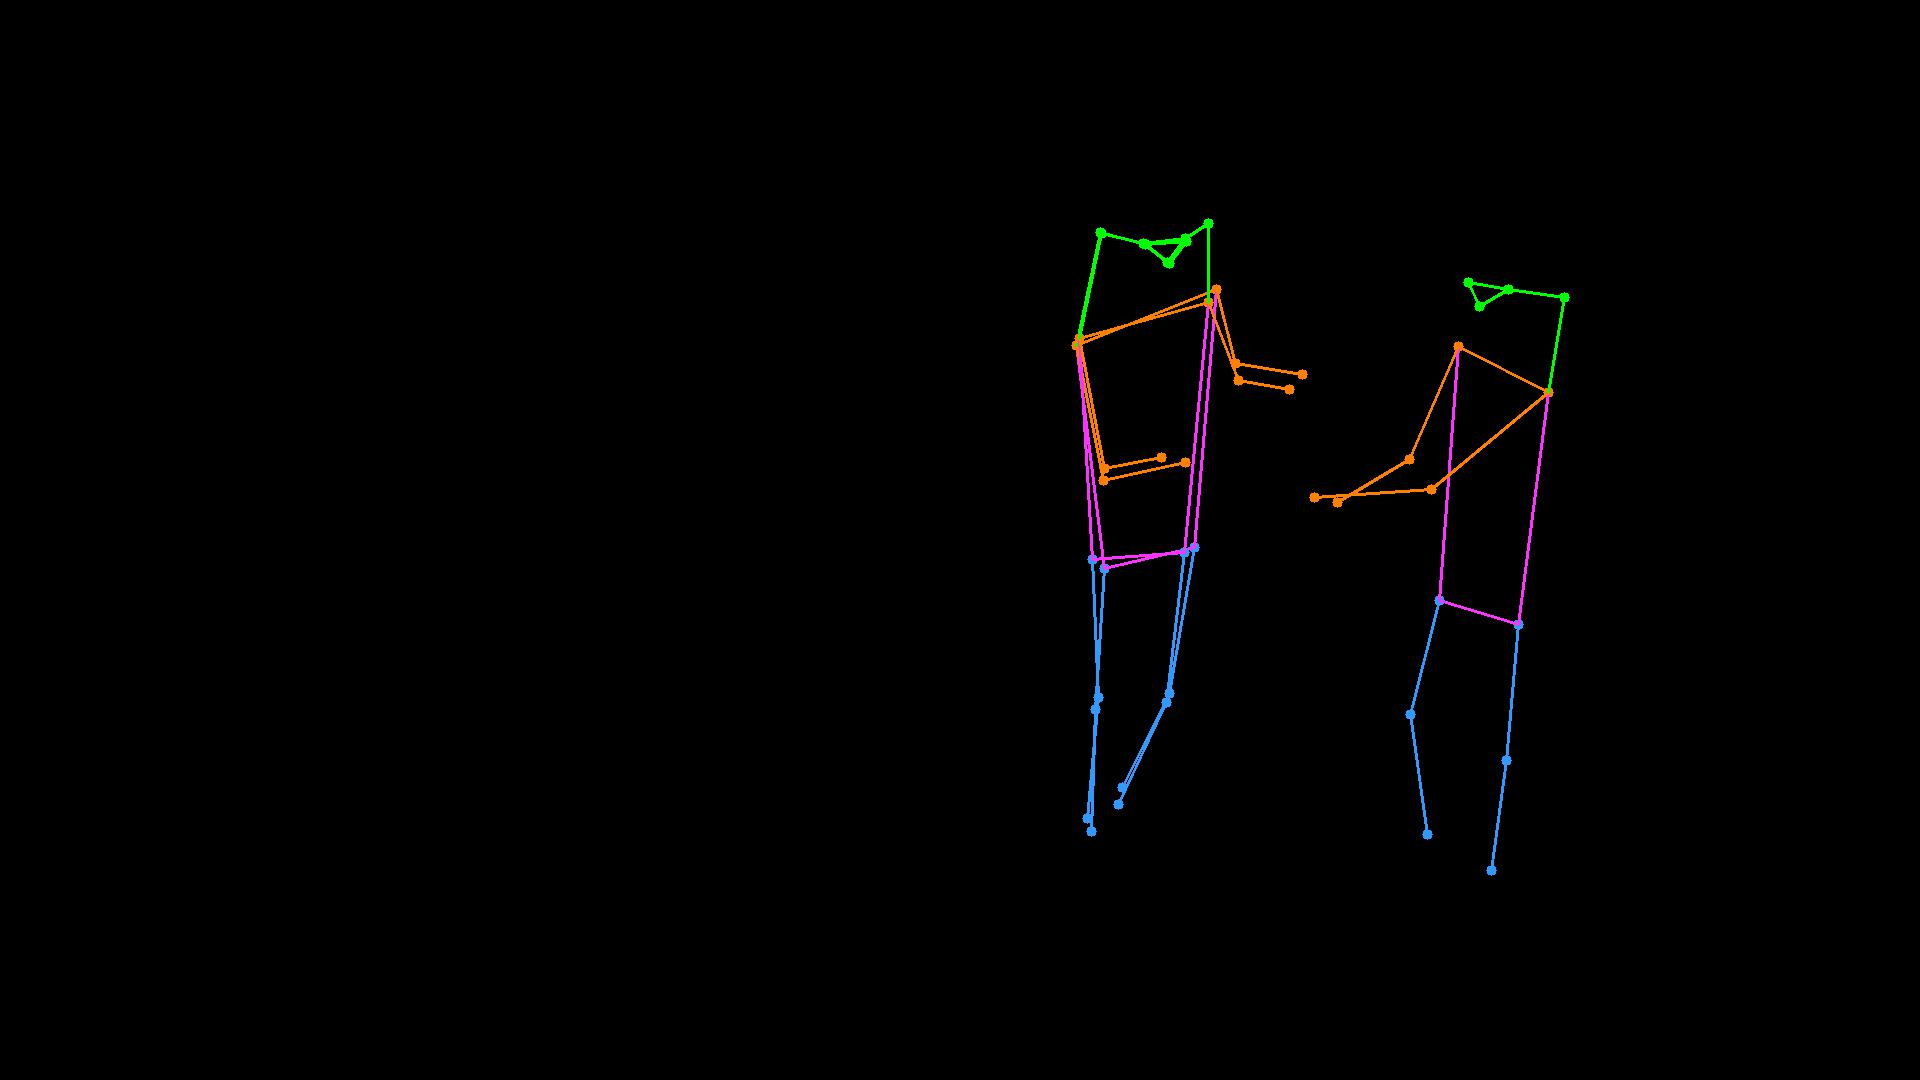normal: (1000, 169, 1654, 947)
